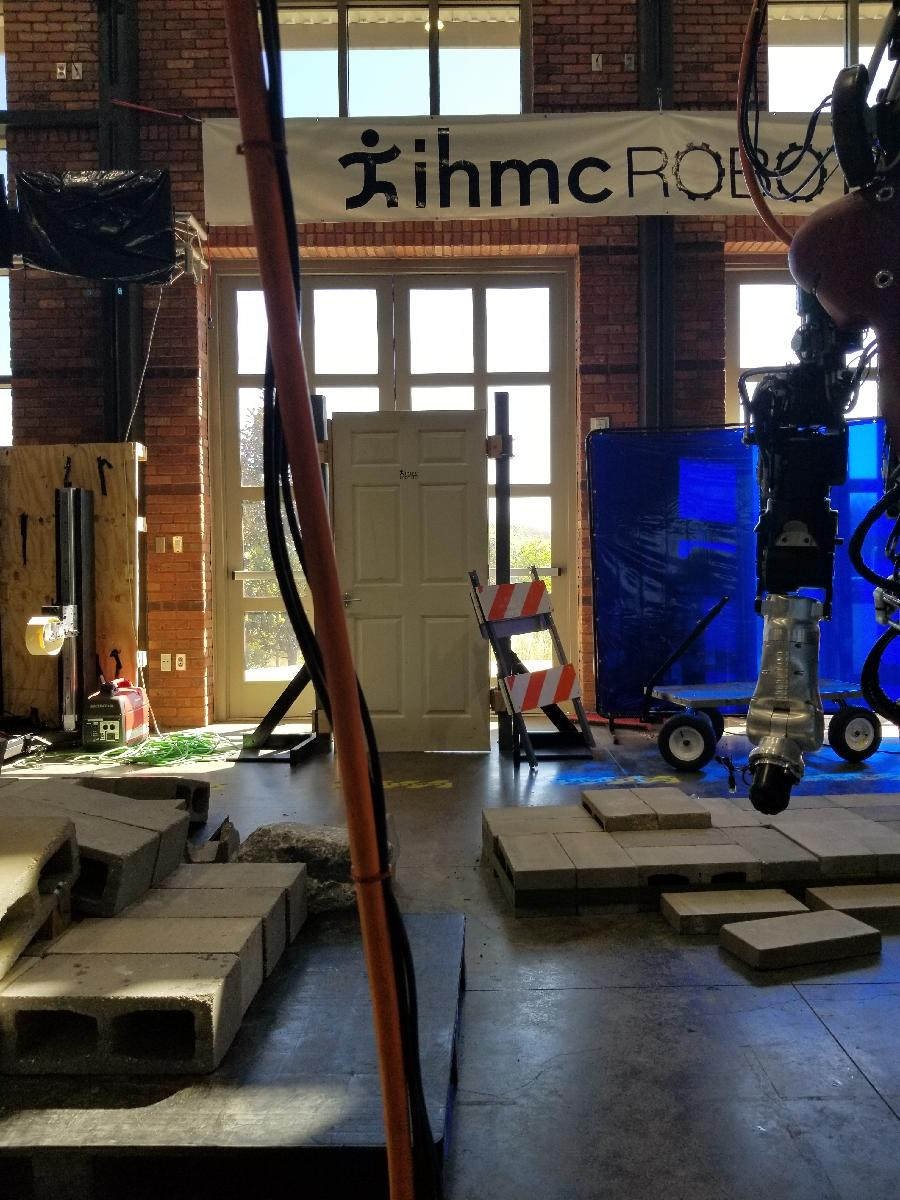door: (324, 405, 497, 761)
doorHandle: (338, 589, 363, 618)
